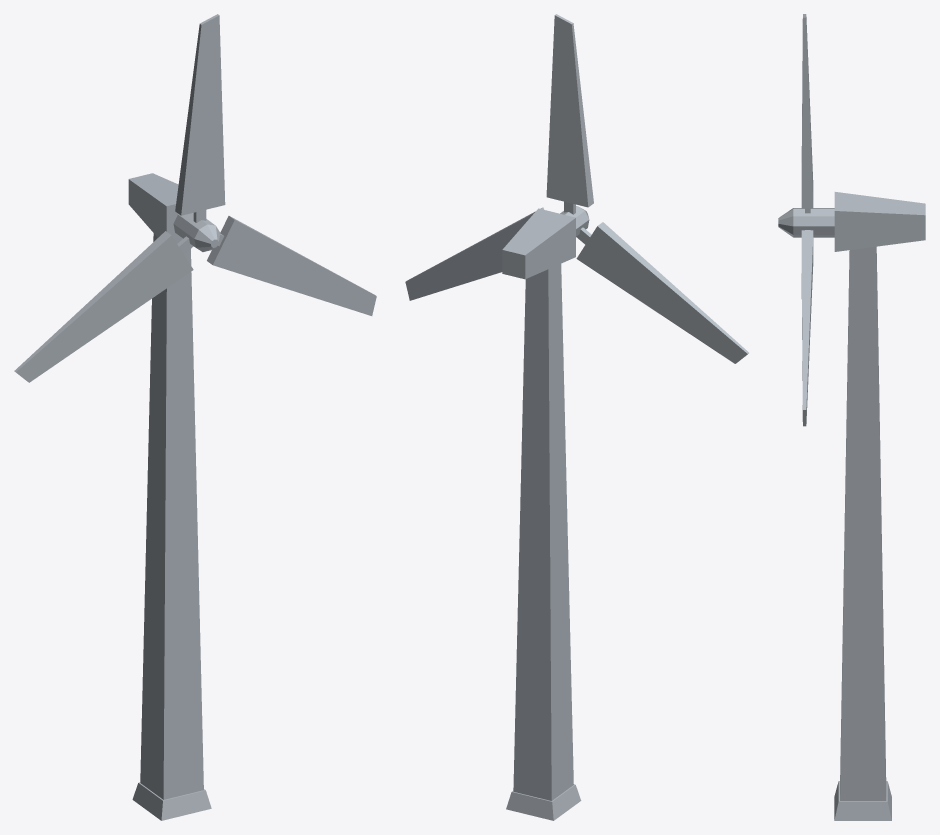
File: props-windmill.glb
3 views of the same model, side by side, from view 1: azimuth 30°, elevation 25°; view 2: azimuth 150°, elevation 25°; view 3: azimuth 270°, elevation 25° (orthographic). The views are drawn at different scales.
Visible parts, largest first — view 1: model; view 2: model; view 3: model.
Boxes of the visible parts, x1,y1,x2,y2 form: model: (14, 14, 376, 820); model: (405, 14, 748, 820); model: (778, 14, 925, 820).
Bounding box in the file's own units: 6.36 × 13.59 × 2.27.
Materials: 1 (1 with a texture image).
